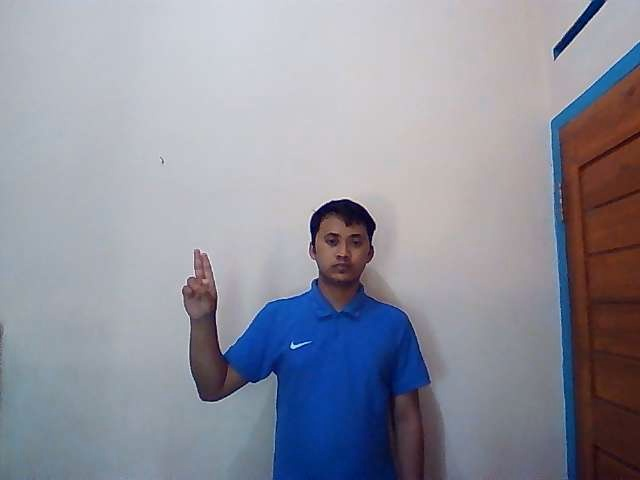U: (182, 248, 218, 317)
